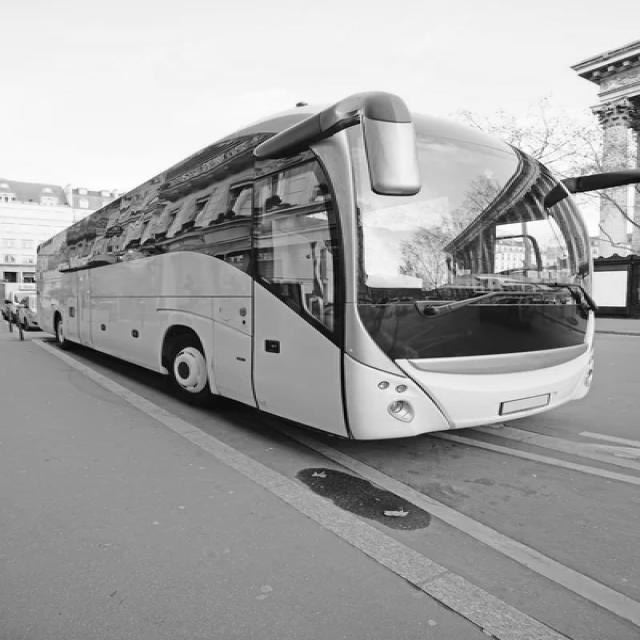Bus: (37, 92, 640, 440)
